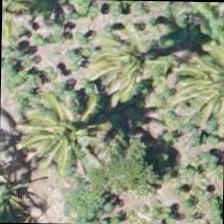Kelapa_Sawit: (20, 83, 112, 175), (91, 7, 183, 98), (1, 0, 51, 50)
